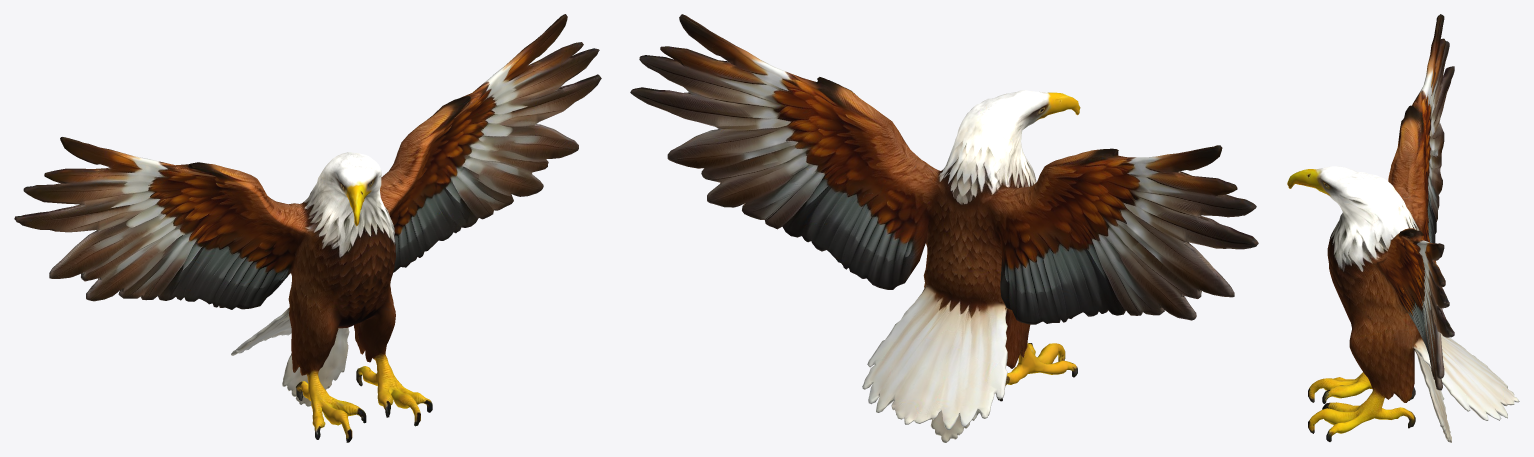
File: eagle.glb
3 views of the same model, side by side, from view 1: azimuth 30°, elevation 25°; view 2: azimuth 150°, elevation 25°; view 3: azimuth 270°, elevation 25° (orthographic). The views are drawn at different scales.
Size of the model in its own units: 1.91 by 1.05 by 0.7006.
1 material, 1 textured.
